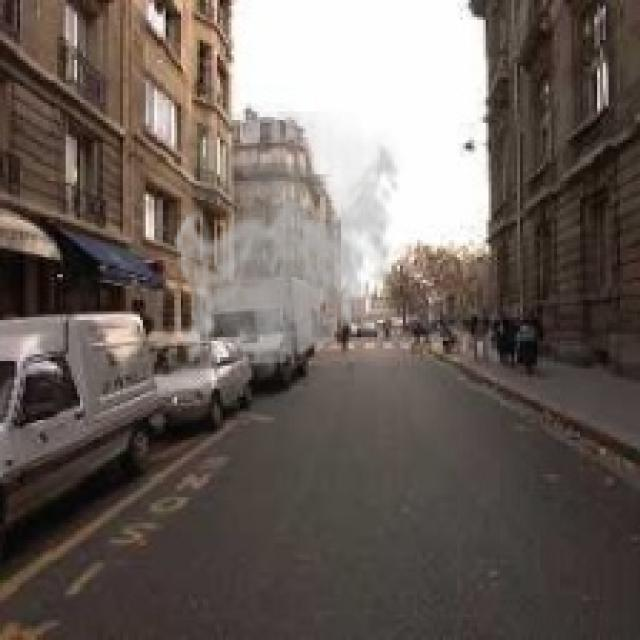Smoke: (168, 111, 406, 383)
